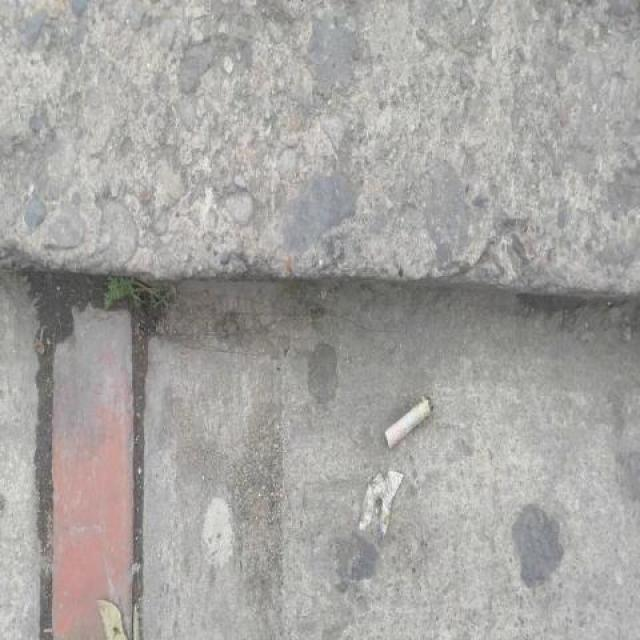non-organic waste: (382, 390, 438, 454)
